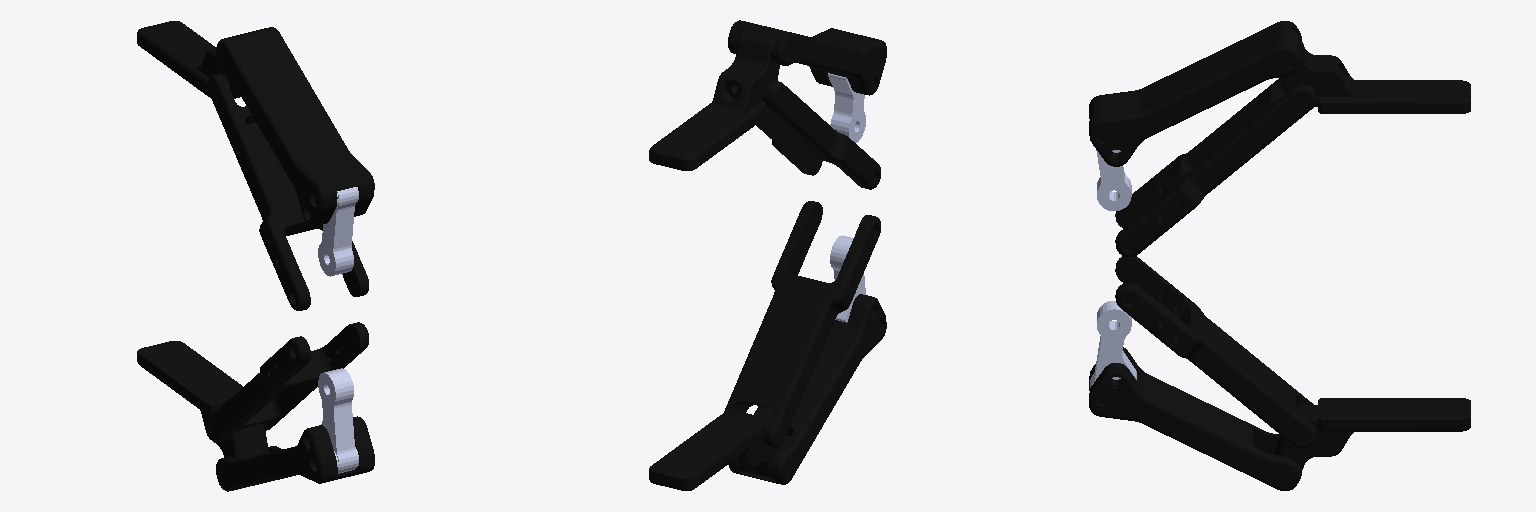
robot.urdf — ur5_robotiq_140:
<?xml version="1.0" ?>
<!-- =================================================================================== -->
<!-- |    This document was autogenerated by xacro from sisbot.xacro                   | -->
<!-- |    EDITING THIS FILE BY HAND IS NOT RECOMMENDED                                 | -->
<!-- =================================================================================== -->
<robot name="ur5_robotiq_140" xmlns:xacro="http://ros.org/wiki/xacro">
  <!--################################################
  ########              arm                    #######
  ####################################################-->

  <link name="base_link">
    <visual>
      <geometry>
        <mesh filename="../meshes/ur5/visual/base.obj"/>
      </geometry>
      <material name="LightGrey">
        <color rgba="0.7 0.7 0.7 1.0"/>
      </material>
    </visual>
    <collision>
      <geometry>
        <mesh filename="../meshes/ur5/collision/base.stl"/>
      </geometry>
    </collision>
    <inertial>
      <mass value="4.0"/>
      <origin rpy="0 0 0" xyz="0.0 0.0 0.0"/>
      <inertia ixx="0.00443333156" ixy="0.0" ixz="0.0" iyy="0.00443333156" iyz="0.0" izz="0.0072"/>
    </inertial>
  </link>

  <joint name="shoulder_pan_joint" type="revolute">
    <parent link="base_link"/>
    <child link="shoulder_link"/>
    <origin rpy="0.0 0.0 0.0" xyz="0.0 0.0 0.089159"/>
    <axis xyz="0 0 1"/>
    <limit effort="150.0" lower="-3.14159265359" upper="3.14159265359" velocity="3.15"/>
    <dynamics damping="0.0" friction="0.0"/>
  </joint>
  <link name="shoulder_link">
    <visual>
      <geometry>
        <mesh filename="../meshes/ur5/visual/shoulder.obj"/>
      </geometry>
      <material name="DarkGray">
        <color rgba="0.5 0.5 0.5 1.0"/>
      </material>
    </visual>
    <collision>
      <geometry>
        <mesh filename="../meshes/ur5/collision/shoulder.stl"/>
      </geometry>
    </collision>
    <inertial>
      <mass value="3.7"/>
      <origin rpy="0 0 0" xyz="0.0 0.0 0.0"/>
      <inertia ixx="0.010267495893" ixy="0.0" ixz="0.0" iyy="0.010267495893" iyz="0.0" izz="0.00666"/>
    </inertial>
  </link>
  <joint name="shoulder_lift_joint" type="revolute">
    <parent link="shoulder_link"/>
    <child link="upper_arm_link"/>
    <origin rpy="0.0 1.57079632679 0.0" xyz="0.0 0.13585 0.0"/>
    <axis xyz="0 1 0"/>
    <limit effort="150.0" lower="-3.14159265359" upper="3.14159265359" velocity="3.15"/>
    <dynamics damping="0.0" friction="0.0"/>
  </joint>
  <link name="upper_arm_link">
    <visual>
      <geometry>
        <mesh filename="../meshes/ur5/visual/upperarm.obj"/>
      </geometry>
      <material name="LightGrey">
        <color rgba="0.7 0.7 0.7 1.0"/>
      </material>
    </visual>
    <collision>
      <geometry>
        <mesh filename="../meshes/ur5/collision/upperarm.stl"/>
      </geometry>
    </collision>
    <inertial>
      <mass value="8.393"/>
      <origin rpy="0 0 0" xyz="0.0 0.0 0.28"/>
      <inertia ixx="0.22689067591" ixy="0.0" ixz="0.0" iyy="0.22689067591" iyz="0.0" izz="0.0151074"/>
    </inertial>
  </link>
  <joint name="elbow_joint" type="revolute">
    <parent link="upper_arm_link"/>
    <child link="forearm_link"/>
    <origin rpy="0.0 0.0 0.0" xyz="0.0 -0.1197 0.425"/>
    <axis xyz="0 1 0"/>
    <limit effort="150.0" lower="-3.14159265359" upper="3.14159265359" velocity="3.15"/>
    <dynamics damping="0.0" friction="0.0"/>
  </joint>
  <link name="forearm_link">
    <visual>
      <geometry>
        <mesh filename="../meshes/ur5/visual/forearm.obj"/>
      </geometry>
      <material name="LightGrey">
        <color rgba="0.7 0.7 0.7 1.0"/>
      </material>
    </visual>
    <collision>
      <geometry>
        <mesh filename="../meshes/ur5/collision/forearm.stl"/>
      </geometry>
    </collision>
    <inertial>
      <mass value="2.275"/>
      <origin rpy="0 0 0" xyz="0.0 0.0 0.25"/>
      <inertia ixx="0.049443313556" ixy="0.0" ixz="0.0" iyy="0.049443313556" iyz="0.0" izz="0.004095"/>
    </inertial>
  </link>
  <joint name="wrist_1_joint" type="revolute">
    <parent link="forearm_link"/>
    <child link="wrist_1_link"/>
    <origin rpy="0.0 1.57079632679 0.0" xyz="0.0 0.0 0.39225"/>
    <axis xyz="0 1 0"/>
    <limit effort="28.0" lower="-3.14159265359" upper="3.14159265359" velocity="3.2"/>
    <dynamics damping="0.0" friction="0.0"/>
  </joint>
  <link name="wrist_1_link">
    <visual>
      <geometry>
        <mesh filename="../meshes/ur5/visual/wrist1.obj"/>
      </geometry>
      <material name="DarkGray">
        <color rgba="0.5 0.5 0.5 1.0"/>
      </material>
    </visual>
    <collision>
      <geometry>
        <mesh filename="../meshes/ur5/collision/wrist1.stl"/>
      </geometry>
    </collision>
    <inertial>
      <mass value="1.219"/>
      <origin rpy="0 0 0" xyz="0.0 0.0 0.0"/>
      <inertia ixx="0.111172755531" ixy="0.0" ixz="0.0" iyy="0.111172755531" iyz="0.0" izz="0.21942"/>
    </inertial>
  </link>
  <joint name="wrist_2_joint" type="revolute">
    <parent link="wrist_1_link"/>
    <child link="wrist_2_link"/>
    <origin rpy="0.0 0.0 0.0" xyz="0.0 0.093 0.0"/>
    <axis xyz="0 0 1"/>
    <limit effort="28.0" lower="-3.14159265359" upper="3.14159265359" velocity="3.2"/>
    <dynamics damping="0.0" friction="0.0"/>
  </joint>
  <link name="wrist_2_link">
    <visual>
      <geometry>
        <mesh filename="../meshes/ur5/visual/wrist2.obj"/>
      </geometry>
      <material name="DarkGray">
        <color rgba="0.5 0.5 0.5 1.0"/>
      </material>
    </visual>
    <collision>
      <geometry>
        <mesh filename="../meshes/ur5/collision/wrist2.stl"/>
      </geometry>
    </collision>
    <inertial>
      <mass value="1.219"/>
      <origin rpy="0 0 0" xyz="0.0 0.0 0.0"/>
      <inertia ixx="0.111172755531" ixy="0.0" ixz="0.0" iyy="0.111172755531" iyz="0.0" izz="0.21942"/>
    </inertial>
  </link>
  <joint name="wrist_3_joint" type="revolute">
    <parent link="wrist_2_link"/>
    <child link="wrist_3_link"/>
    <origin rpy="0.0 0.0 0.0" xyz="0.0 0.0 0.09465"/>
    <axis xyz="0 1 0"/>
    <limit effort="28.0" lower="-3.14159265359" upper="3.14159265359" velocity="3.2"/>
    <dynamics damping="0.0" friction="0.0"/>
  </joint>
  <link name="wrist_3_link">
    <visual>
      <geometry>
        <mesh filename="../meshes/ur5/visual/wrist3.obj"/>
      </geometry>
      <material name="LightGrey">
        <color rgba="0.7 0.7 0.7 1.0"/>
      </material>
    </visual>
    <collision>
      <geometry>
        <mesh filename="../meshes/ur5/collision/wrist3.stl"/>
      </geometry>
    </collision>
    <inertial>
      <mass value="0.1879"/>
      <origin rpy="0 0 0" xyz="0.0 0.0 0.0"/>
      <inertia ixx="0.0171364731454" ixy="0.0" ixz="0.0" iyy="0.0171364731454" iyz="0.0" izz="0.033822"/>
    </inertial>
  </link>
  <joint name="ee_fixed_joint" type="fixed">
    <parent link="wrist_3_link"/>
    <child link="ee_link"/>
    <origin rpy="0.0 0.0 1.57079632679" xyz="0.0 0.0823 0.0"/>
  </joint>
  <link name="ee_link">
    <collision>
      <geometry>
        <box size="0.01 0.01 0.01"/>
      </geometry>
      <origin rpy="0 0 0" xyz="-0.01 0 0"/>
    </collision>
  </link>

  <!--################################################
  ########              gripper                  #####
  ####################################################-->

 <link name="robotiq_140_robotiq_arg2f_base_link">
    <inertial>
      <origin rpy="0 0 0" xyz="-0.00013 0.00011 0.03284"/>
      <mass value="0.52954"/>
      <inertia ixx="573495E-9" ixy="-554E-9" ixz="2628E-9" iyy="681780E-9" iyz="607E-9" izz="483281E-9"/>
    </inertial>
    <visual>
      <origin rpy="0 0 0" xyz="0 0 0"/>
      <geometry>
        <mesh filename="package://robotiq_140_gripper_description/meshes/GRIPPER_base_axis.dae" scale="0.001 0.001 0.001"/>
      </geometry>
      <material name="Gazebo/Black">
        <color rgba="0.1 0.1 0.1 1"/>
      </material>
    </visual>
    <collision>
      <origin rpy="0 0 0" xyz="0 0 0"/>
      <geometry>
        <mesh filename="package://robotiq_140_gripper_description/meshes/GRIPPER_base_axis.dae" scale="0.001 0.001 0.001"/>
      </geometry>
    </collision>
  </link>
  <gazebo reference="robotiq_140_robotiq_arg2f_base_link">
    <material>Gazebo/Black</material>
    <selfCollide>True</selfCollide>
  </gazebo>
  <!-- robotiq_85_left_knuckle_link -->
  <link name="robotiq_140_left_outer_knuckle">
    <inertial>
      <origin rpy="0 0 0" xyz="0.01616 0 -0.00133"/>
      <mass value="0.0131"/>
      <inertia ixx="325.5E-9" ixy="0" ixz="197.94E-9" iyy="2306.36E-9" iyz="0" izz="2176E-9"/>
    </inertial>
    <visual>
      <origin rpy="0 0 0" xyz="0 0 0"/>
      <geometry>
        <mesh filename="package://robotiq_140_gripper_description/meshes/robotiq_140_left_outer_knuckle.dae" scale="0.001 0.001 0.001"/>
      </geometry>
      <material name="">
        <color rgba="0.792156862745098 0.819607843137255 0.933333333333333 1"/>
      </material>
    </visual>
    <collision>
      <origin rpy="0 0 0" xyz="0 0 0"/>
      <geometry>
        <mesh filename="package://robotiq_140_gripper_description/meshes/robotiq_140_left_outer_knuckle.dae" scale="0.001 0.001 0.001"/>
      </geometry>
    </collision>
  </link>
  <gazebo reference="robotiq_140_left_outer_knuckle">
    <material>Gazebo/Grey</material>
    <selfCollide>True</selfCollide>
  </gazebo>
  <!-- robotiq_85_right_knuckle_link -->
  <link name="robotiq_140_right_outer_knuckle">
    <inertial>
      <origin rpy="0 0 0" xyz="-0.01616 0 -0.00133"/>
      <mass value="0.0131"/>
      <inertia ixx="325.5E-9" ixy="0" ixz="-197.94E-9" iyy="2306.36E-9" iyz="0" izz="2176E-9"/>
    </inertial>
    <visual>
      <origin rpy="0 0 0" xyz="0 0 0"/>
      <geometry>
        <mesh filename="package://robotiq_140_gripper_description/meshes/robotiq_140_right_outer_knuckle.dae" scale="0.001 0.001 0.001"/>
      </geometry>
      <material name="">
        <color rgba="0.792156862745098 0.819607843137255 0.933333333333333 1"/>
      </material>
    </visual>
    <collision>
      <origin rpy="0 0 0" xyz="0 0 0"/>
      <geometry>
        <mesh filename="package://robotiq_140_gripper_description/meshes/robotiq_140_right_outer_knuckle.dae" scale="0.001 0.001 0.001"/>
      </geometry>
    </collision>
  </link>
  <gazebo reference="robotiq_140_right_outer_knuckle">
    <material>Gazebo/Grey</material>
    <selfCollide>True</selfCollide>
  </gazebo>
  <!-- robotiq_85_left_inner_knuckle_link -->
  <link name="robotiq_140_left_inner_knuckle">
    <inertial>
      <origin rpy="0 0 0" xyz="0.03332 0 0.0379"/>
      <mass value="0.04476"/>
      <inertia ixx="28054E-9" ixy="0" ixz="-19174E-9" iyy="39758E-9" iyz="0" izz="23453E-9"/>
    </inertial>
    <visual>
      <origin rpy="0 0 0" xyz="0 0 0"/>
      <geometry>
        <mesh filename="package://robotiq_140_gripper_description/meshes/robotiq_140_left_inner_knuckle.dae" scale="0.001 0.001 0.001"/>
      </geometry>
      <material name="Gazebo/Black">
        <color rgba="0.1 0.1 0.1 1"/>
      </material>
    </visual>
    <collision>
      <origin rpy="0 0 0" xyz="0 0 0"/>
      <geometry>
        <mesh filename="package://robotiq_140_gripper_description/meshes/robotiq_140_left_inner_knuckle.dae" scale="0.001 0.001 0.001"/>
      </geometry>
    </collision>
  </link>
  <gazebo reference="robotiq_140_left_inner_knuckle">
    <material>Gazebo/Black</material>
    <selfCollide>False</selfCollide>
  </gazebo>
  <!-- robotiq_85_right_inner_knuckle_link -->
  <link name="robotiq_140_right_inner_knuckle">
    <inertial>
      <origin rpy="0 0 0" xyz="-0.03332 0 0.0379"/>
      <mass value="0.04476"/>
      <inertia ixx="28054E-9" ixy="0" ixz="19174E-9" iyy="39758E-9" iyz="0" izz="23453E-9"/>
    </inertial>
    <visual>
      <origin rpy="0 0 0" xyz="0 0 0"/>
      <geometry>
        <mesh filename="package://robotiq_140_gripper_description/meshes/robotiq_140_right_inner_knuckle.dae" scale="0.001 0.001 0.001"/>
      </geometry>
      <material name="Gazebo/Black">
        <color rgba="0.1 0.1 0.1 1"/>
      </material>
    </visual>
    <collision>
      <origin rpy="0 0 0" xyz="0 0 0"/>
      <geometry>
        <mesh filename="package://robotiq_140_gripper_description/meshes/robotiq_140_right_inner_knuckle.dae" scale="0.001 0.001 0.001"/>
      </geometry>
    </collision>
  </link>
  <gazebo reference="robotiq_140_right_inner_knuckle">
    <material>Gazebo/Black</material>
    <selfCollide>False</selfCollide>
  </gazebo>
  <!-- robotiq_85_left_finger_link -->
  <link name="robotiq_140_left_inner_finger">
    <inertial>
      <origin rpy="0 0 0" xyz="-0.01563 0 0.02522"/>
      <mass value="0.045"/>
      <inertia ixx="26663E-9" ixy="0" ixz="5579E-9" iyy="28009E-9" iyz="0" izz="4368E-9"/>
    </inertial>
    <visual>
      <origin rpy="0 0 0" xyz="0 0 0"/>
      <geometry>
        <mesh filename="package://robotiq_140_gripper_description/meshes/robotiq_140_left_inner_finger.dae" scale="0.001 0.001 0.001"/>
      </geometry>
      <material name="Gazebo/Black">
        <color rgba="0.1 0.1 0.1 1"/>
      </material>
    </visual>
    <collision>
      <origin rpy="0 0 0" xyz="0 0 0"/>
      <geometry>
        <mesh filename="package://robotiq_140_gripper_description/meshes/robotiq_140_left_inner_finger.dae" scale="0.001 0.001 0.001"/>
      </geometry>
    </collision>
  </link>
  <gazebo reference="robotiq_140_left_inner_finger">
    <material>Gazebo/Black</material>
    <selfCollide>False</selfCollide>
  </gazebo>
  <!-- robotiq_85_right_finger_link -->
  <link name="robotiq_140_right_inner_finger">
    <inertial>
      <origin rpy="0 0 0" xyz="0.01563 0 0.02522"/>
      <mass value="0.045"/>
      <inertia ixx="26663E-9" ixy="0" ixz="-5579E-9" iyy="28009E-9" iyz="0" izz="4368E-9"/>
    </inertial>
    <visual>
      <origin rpy="0 0 0" xyz="0 0 0"/>
      <geometry>
        <mesh filename="package://robotiq_140_gripper_description/meshes/robotiq_140_right_inner_finger.dae" scale="0.001 0.001 0.001"/>
      </geometry>
      <material name="Gazebo/Black">
        <color rgba="0.1 0.1 0.1 1"/>
      </material>
    </visual>
    <collision>
      <origin rpy="0 0 0" xyz="0 0 0"/>
      <geometry>
        <mesh filename="package://robotiq_140_gripper_description/meshes/robotiq_140_right_inner_finger.dae" scale="0.001 0.001 0.001"/>
      </geometry>
    </collision>
  </link>
  <gazebo reference="robotiq_140_right_inner_finger">
    <material>Gazebo/Black</material>
    <selfCollide>False</selfCollide>
  </gazebo>
  <!-- robot -->
  <link name="robotiq_140_left_outer_finger">
    <inertial>
      <origin rpy="0 0 0" xyz="0.01482 0 0.03451"/>
      <mass value="0.07637"/>
      <inertia ixx="45513E-9" ixy="0" ixz="-20691E-9" iyy="52570E-9" iyz="0" izz="17804E-9"/>
    </inertial>
    <visual>
      <origin rpy="0 0 0" xyz="0 0 0"/>
      <geometry>
        <mesh filename="package://robotiq_140_gripper_description/meshes/robotiq_140_left_outer_finger.dae" scale="0.001 0.001 0.001"/>
      </geometry>
      <material name="Gazebo/Black">
        <color rgba="0.1 0.1 0.1 1"/>
      </material>
    </visual>
    <collision>
      <origin rpy="0 0 0" xyz="0 0 0"/>
      <geometry>
        <mesh filename="package://robotiq_140_gripper_description/meshes/robotiq_140_left_outer_finger.dae" scale="0.001 0.001 0.001"/>
      </geometry>
    </collision>
  </link>
  <gazebo reference="robotiq_140_left_outer_finger">
    <material>Gazebo/Black</material>
    <selfCollide>True</selfCollide>
  </gazebo>
  <!-- robot -->
  <link name="robotiq_140_right_outer_finger">
    <inertial>
      <origin rpy="0 0 0" xyz="-0.01482 0 0.03451"/>
      <mass value="0.07637"/>
      <inertia ixx="45513E-9" ixy="0" ixz="20691E-9" iyy="52570E-9" iyz="0" izz="17804E-9"/>
    </inertial>
    <visual>
      <origin rpy="0 0 0" xyz="0 0 0"/>
      <geometry>
        <mesh filename="package://robotiq_140_gripper_description/meshes/robotiq_140_right_outer_finger.dae" scale="0.001 0.001 0.001"/>
      </geometry>
      <material name="Gazebo/Black">
        <color rgba="0.1 0.1 0.1 1"/>
      </material>
    </visual>
    <collision>
      <origin rpy="0 0 0" xyz="0 0 0"/>
      <geometry>
        <mesh filename="package://robotiq_140_gripper_description/meshes/robotiq_140_right_outer_finger.dae" scale="0.001 0.001 0.001"/>
      </geometry>
    </collision>
  </link>
  <gazebo reference="robotiq_140_right_outer_finger">
    <material>Gazebo/Black</material>
    <selfCollide>True</selfCollide>
  </gazebo>
  <!-- robot -->
  <joint name="robotiq_arg2f_base_to_robotiq_140_left_outer_knuckle" type="revolute">
    <origin rpy="0 0 0" xyz="0.0306 0 0.05466"/>
    <parent link="robotiq_140_robotiq_arg2f_base_link"/>
    <child link="robotiq_140_left_outer_knuckle"/>
    <axis xyz="0 -1 0"/>
    <limit effort="18.65" lower="0" upper="0.78574722925" velocity="2.0"/>
    <mimic joint="robotiq_140_joint_finger" multiplier="1" offset="0"/>
  </joint>
  <!-- robot -->
  <joint name="robotiq_140_joint_finger" type="revolute">
    <origin rpy="0 0 0" xyz="-0.0306 0 0.05466"/>
    <parent link="robotiq_140_robotiq_arg2f_base_link"/>
    <child link="robotiq_140_right_outer_knuckle"/>
    <axis xyz="0 1 0"/>
    <limit effort="18.65" lower="0" upper="0.78574722925" velocity="3.54"/>
  </joint>
  <!-- robot -->
  <joint name="robotiq_arg2f_base_to_robotiq_140_left_inner_knuckle" type="revolute">
    <origin rpy="0 0 0" xyz="0.0127 0 0.06118"/>
    <parent link="robotiq_140_robotiq_arg2f_base_link"/>
    <child link="robotiq_140_left_inner_knuckle"/>
    <axis xyz="0 -1 0"/>
    <limit effort="18.65" lower="0" upper="0.78574722925" velocity="3.54"/>
    <mimic joint="robotiq_140_joint_finger" multiplier="1" offset="0"/>
  </joint>
  <!-- robot -->
  <joint name="robotiq_arg2f_base_to_robotiq_140_right_inner_knuckle" type="revolute">
    <origin rpy="0 0 0" xyz="-0.0127 0 0.06118"/>
    <parent link="robotiq_140_robotiq_arg2f_base_link"/>
    <child link="robotiq_140_right_inner_knuckle"/>
    <axis xyz="0 1 0"/>
    <limit effort="18.65" lower="0" upper="0.78574722925" velocity="3.54"/>
    <mimic joint="robotiq_140_joint_finger" multiplier="1" offset="0"/>
  </joint>
  <!-- robot -->
  <joint name="robotiq_140_left_outer_knuckle_to_finger" type="fixed">
    <origin rpy="0 0 0" xyz="0.03142 0 -0.00453"/>
    <parent link="robotiq_140_left_outer_knuckle"/>
    <child link="robotiq_140_left_outer_finger"/>
  </joint>

  <!-- robot -->
  <joint name="robotiq_140_right_outer_knuckle_to_finger" type="fixed">
    <origin rpy="0 0 0" xyz="-0.03142 0 -0.00453"/>
    <parent link="robotiq_140_right_outer_knuckle"/>
    <child link="robotiq_140_right_outer_finger"/>
  </joint>
  <!-- robot -->
  <joint name="robotiq_140_left_outer_finger_to_inner" type="revolute">
    <origin rpy="0 0 0" xyz="0.03543 0 0.0789"/>
    <parent link="robotiq_140_left_outer_finger"/>
    <child link="robotiq_140_left_inner_finger"/>
    <axis xyz="0 1 0"/>
    <limit effort="18.65" lower="0" upper="0.78574722925" velocity="3.54"/>
    <mimic joint="robotiq_140_joint_finger" multiplier="1" offset="0"/>
  </joint>
  <!-- robot -->
  <joint name="robotiq_140_right_outer_finger_to_inner" type="revolute">
    <origin rpy="0 0 0" xyz="-0.03543 0 0.0789"/>
    <parent link="robotiq_140_right_outer_finger"/>
    <child link="robotiq_140_right_inner_finger"/>
    <axis xyz="0 -1 0"/>
    <limit effort="18.65" lower="0" upper="0.78574722925" velocity="3.54"/>
    <mimic joint="robotiq_140_joint_finger" multiplier="1" offset="0"/>
  </joint>


<!--################################################
  ########          connect model                #####
  ####################################################-->

  <link name="world"/>
  <!-- connect gripper to arm -->
  <joint name="arm_gripper_joint" type="fixed">
    <parent link="ee_link"/>
    <child link="robotiq_140_robotiq_arg2f_base_link"/>
    <origin rpy="-1.57 1.57 -1.57" xyz="0.0 0.0 0.0"/>
  </joint>

  <!-- connect arm to world -->
  <joint name="world_arm_joint" type="fixed">
    <parent link="world"/>
    <child link="base_link"/>
    <origin rpy="0.0 0.0 0" xyz="0 0 0.78"/>
  </joint>


</robot>

--- Facts derived from the render (not from the file) ---
3 views of the same robot in one strip: view 1: azimuth 30°, elevation 25°; view 2: azimuth 150°, elevation 25°; view 3: azimuth 270°, elevation 25° (orthographic).
Model ur5_robotiq_140 with 18 links and 17 joints (12 revolute, 5 fixed), rooted at world, posed all joints at 0.
Visible links, largest first — view 1: robotiq_140_left_outer_finger, robotiq_140_left_inner_knuckle, robotiq_140_right_inner_knuckle, robotiq_140_right_inner_finger, robotiq_140_right_outer_finger, robotiq_140_left_inner_finger, robotiq_140_right_outer_knuckle, robotiq_140_left_outer_knuckle; view 2: robotiq_140_right_inner_knuckle, robotiq_140_left_inner_finger, robotiq_140_right_outer_finger, robotiq_140_right_inner_finger, robotiq_140_left_inner_knuckle, robotiq_140_left_outer_finger, robotiq_140_left_outer_knuckle, robotiq_140_right_outer_knuckle; view 3: robotiq_140_left_outer_finger, robotiq_140_right_inner_knuckle, robotiq_140_left_inner_knuckle, robotiq_140_right_outer_finger, robotiq_140_left_inner_finger, robotiq_140_right_inner_finger, robotiq_140_right_outer_knuckle, robotiq_140_left_outer_knuckle.
Boxes of the visible links, x1=… form: robotiq_140_left_outer_finger: x1=215, y1=27, x2=374, y2=226; robotiq_140_left_inner_knuckle: x1=208, y1=74, x2=368, y2=310; robotiq_140_right_inner_knuckle: x1=208, y1=322, x2=368, y2=441; robotiq_140_right_inner_finger: x1=137, y1=341, x2=269, y2=477; robotiq_140_right_outer_finger: x1=216, y1=416, x2=374, y2=491; robotiq_140_left_inner_finger: x1=137, y1=21, x2=240, y2=98; robotiq_140_right_outer_knuckle: x1=318, y1=368, x2=358, y2=473; robotiq_140_left_outer_knuckle: x1=318, y1=187, x2=358, y2=276; robotiq_140_right_inner_knuckle: x1=723, y1=201, x2=880, y2=448; robotiq_140_left_inner_finger: x1=649, y1=29, x2=790, y2=170; robotiq_140_right_outer_finger: x1=728, y1=294, x2=886, y2=484; robotiq_140_right_inner_finger: x1=649, y1=412, x2=790, y2=490; robotiq_140_left_inner_knuckle: x1=756, y1=80, x2=880, y2=189; robotiq_140_left_outer_finger: x1=728, y1=20, x2=886, y2=95; robotiq_140_left_outer_knuckle: x1=828, y1=73, x2=865, y2=142; robotiq_140_right_outer_knuckle: x1=830, y1=235, x2=865, y2=322; robotiq_140_left_outer_finger: x1=1089, y1=21, x2=1301, y2=166; robotiq_140_right_inner_knuckle: x1=1115, y1=256, x2=1316, y2=448; robotiq_140_left_inner_knuckle: x1=1115, y1=78, x2=1316, y2=256; robotiq_140_right_outer_finger: x1=1089, y1=347, x2=1301, y2=490; robotiq_140_left_inner_finger: x1=1281, y1=30, x2=1470, y2=113; robotiq_140_right_inner_finger: x1=1274, y1=398, x2=1470, y2=480; robotiq_140_right_outer_knuckle: x1=1090, y1=301, x2=1136, y2=387; robotiq_140_left_outer_knuckle: x1=1096, y1=150, x2=1131, y2=210.
Bounding box of the posed robot: 0.0351 × 0.1638 × 0.2113 m (x, y, z).
8 mesh visuals loaded from 16 distinct referenced files (8 Collada DAE); not drawn: 8 (reference not matched to a file when rendering).